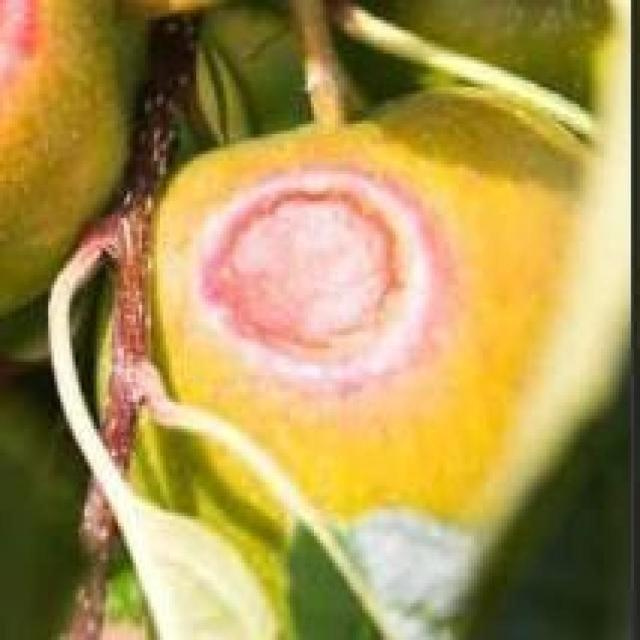Sunscald Fruit: (117, 106, 298, 260)
